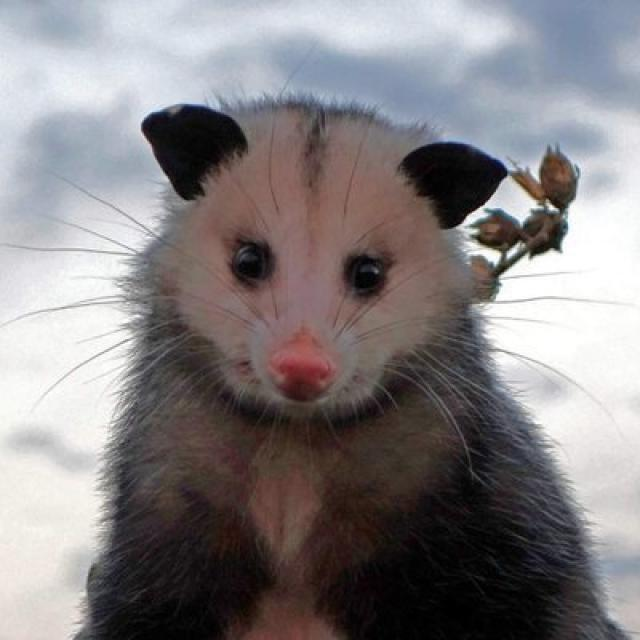possum: (75, 98, 626, 638)
